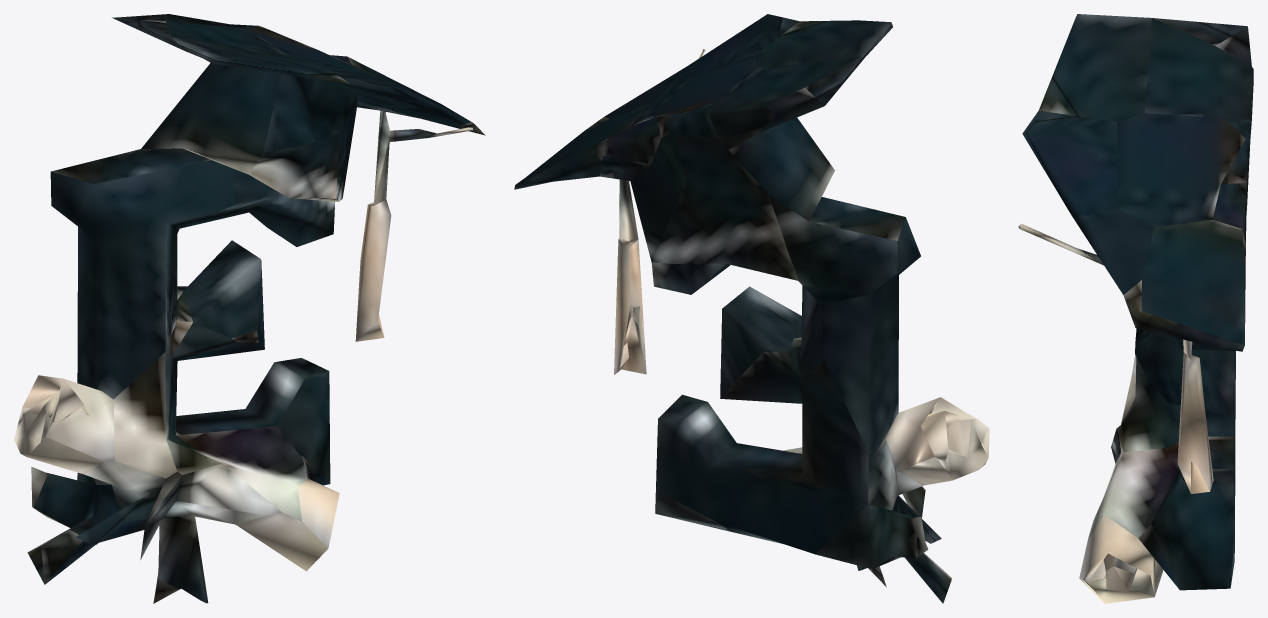
3 views of the same model, side by side, from view 1: azimuth 30°, elevation 25°; view 2: azimuth 150°, elevation 25°; view 3: azimuth 270°, elevation 25° (orthographic). The views are drawn at different scales.
Visible parts, largest first — view 1: Graduation-E; view 2: Graduation-E; view 3: Graduation-E.
Part boxes in pixels (<box>): Graduation-E: <box>14,14,485,603</box>; Graduation-E: <box>514,14,989,603</box>; Graduation-E: <box>1018,14,1253,603</box>.
Size of the model in its own units: 0.2684 by 0.3164 by 0.1219.
1 material, 1 textured.
